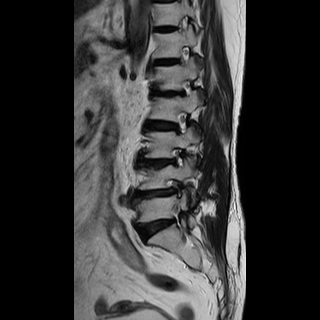LFS0: (172, 75, 203, 104), (168, 106, 195, 139)
LFS2: (165, 142, 192, 176)
LFS3: (163, 177, 190, 202)
